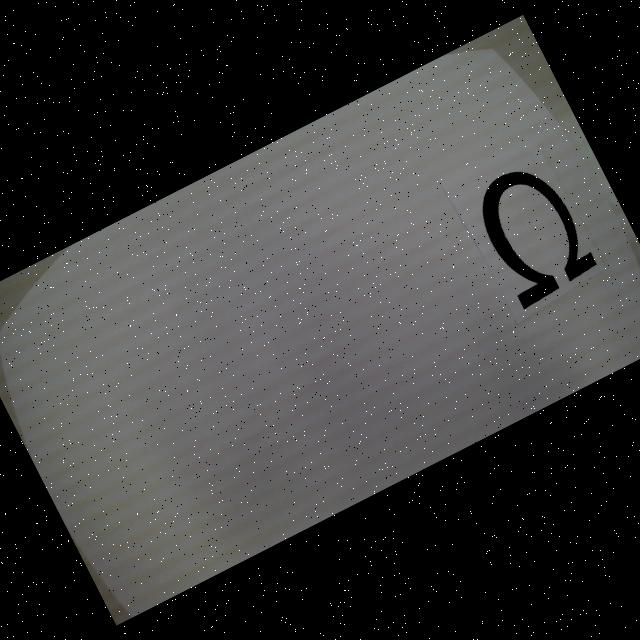OMEGA: (464, 154, 602, 309)
